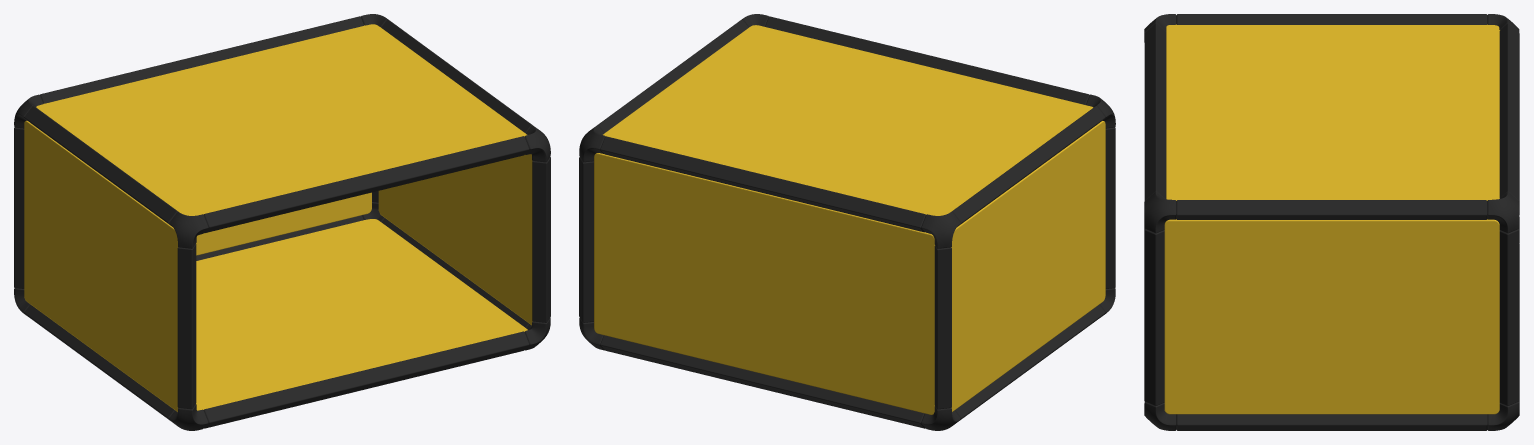
3 renders of one model, left to right at view 1: azimuth 30°, elevation 25°; view 2: azimuth 150°, elevation 25°; view 3: azimuth 270°, elevation 25°, orthographic. The views are drawn at different scales.
Parts seen in each view (by area): view 1: 479x374x229; view 2: 479x374x229; view 3: 479x374x229.
Part boxes in pixels (x1,y1,x2,y2): 479x374x229: (14,14,550,430); 479x374x229: (579,14,1115,430); 479x374x229: (1144,14,1519,430).
Size of the model in its own units: 0.5567 by 0.3066 by 0.4513.
